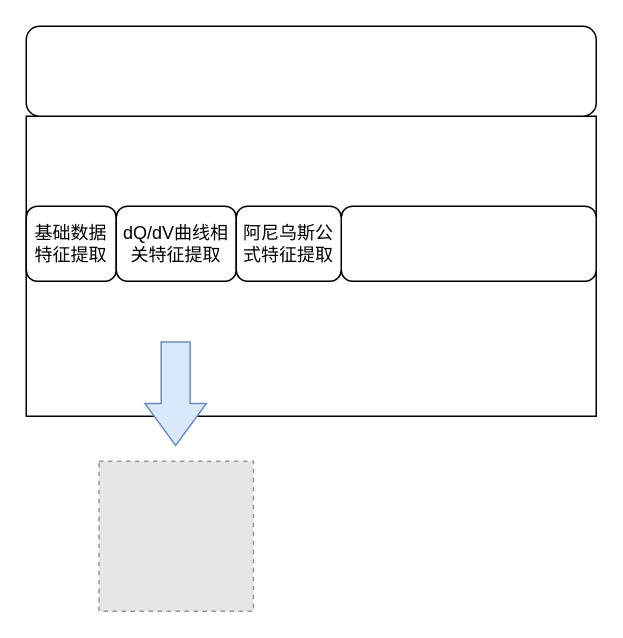
Image size: 623x638. Some labels were removed from this diagram. Grey dashed boxes stand in for pictures. The centre of each missing label's shape, as x and y in pixels:
云端: point 310,70
使用机器学习模型估计SOH: point 468,243
